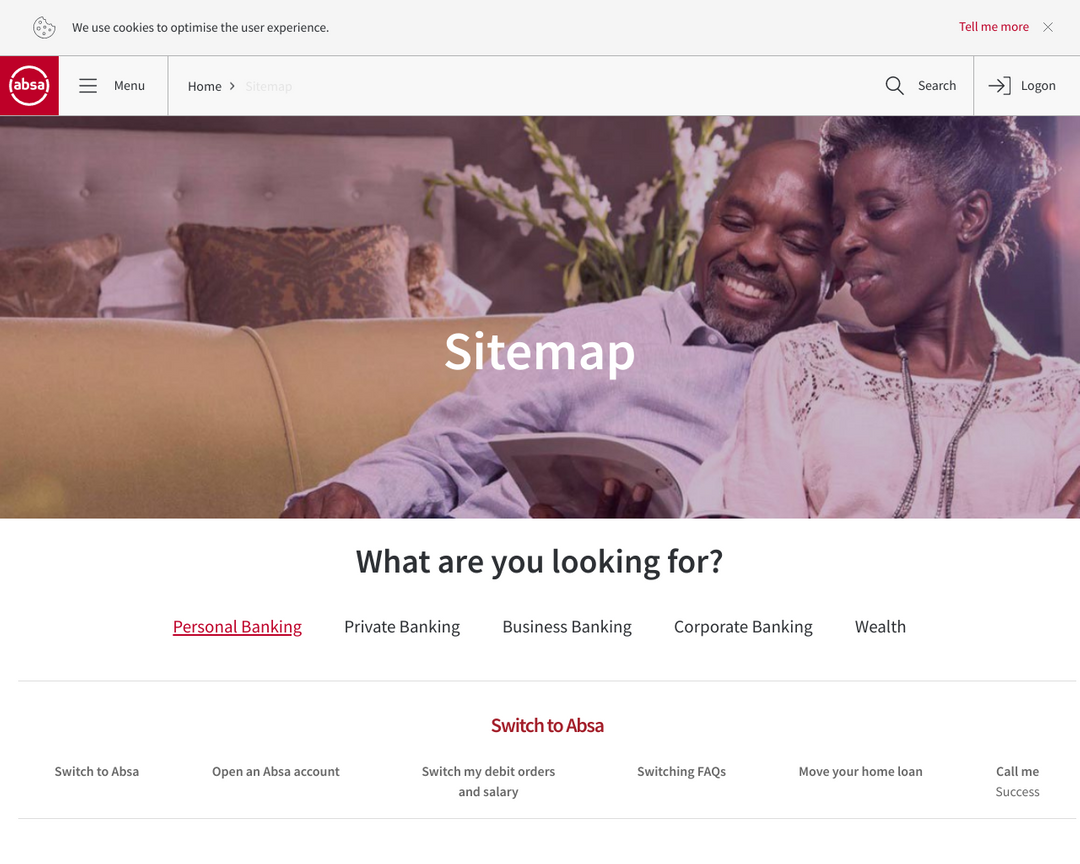ABSA: (7, 64, 51, 110)
